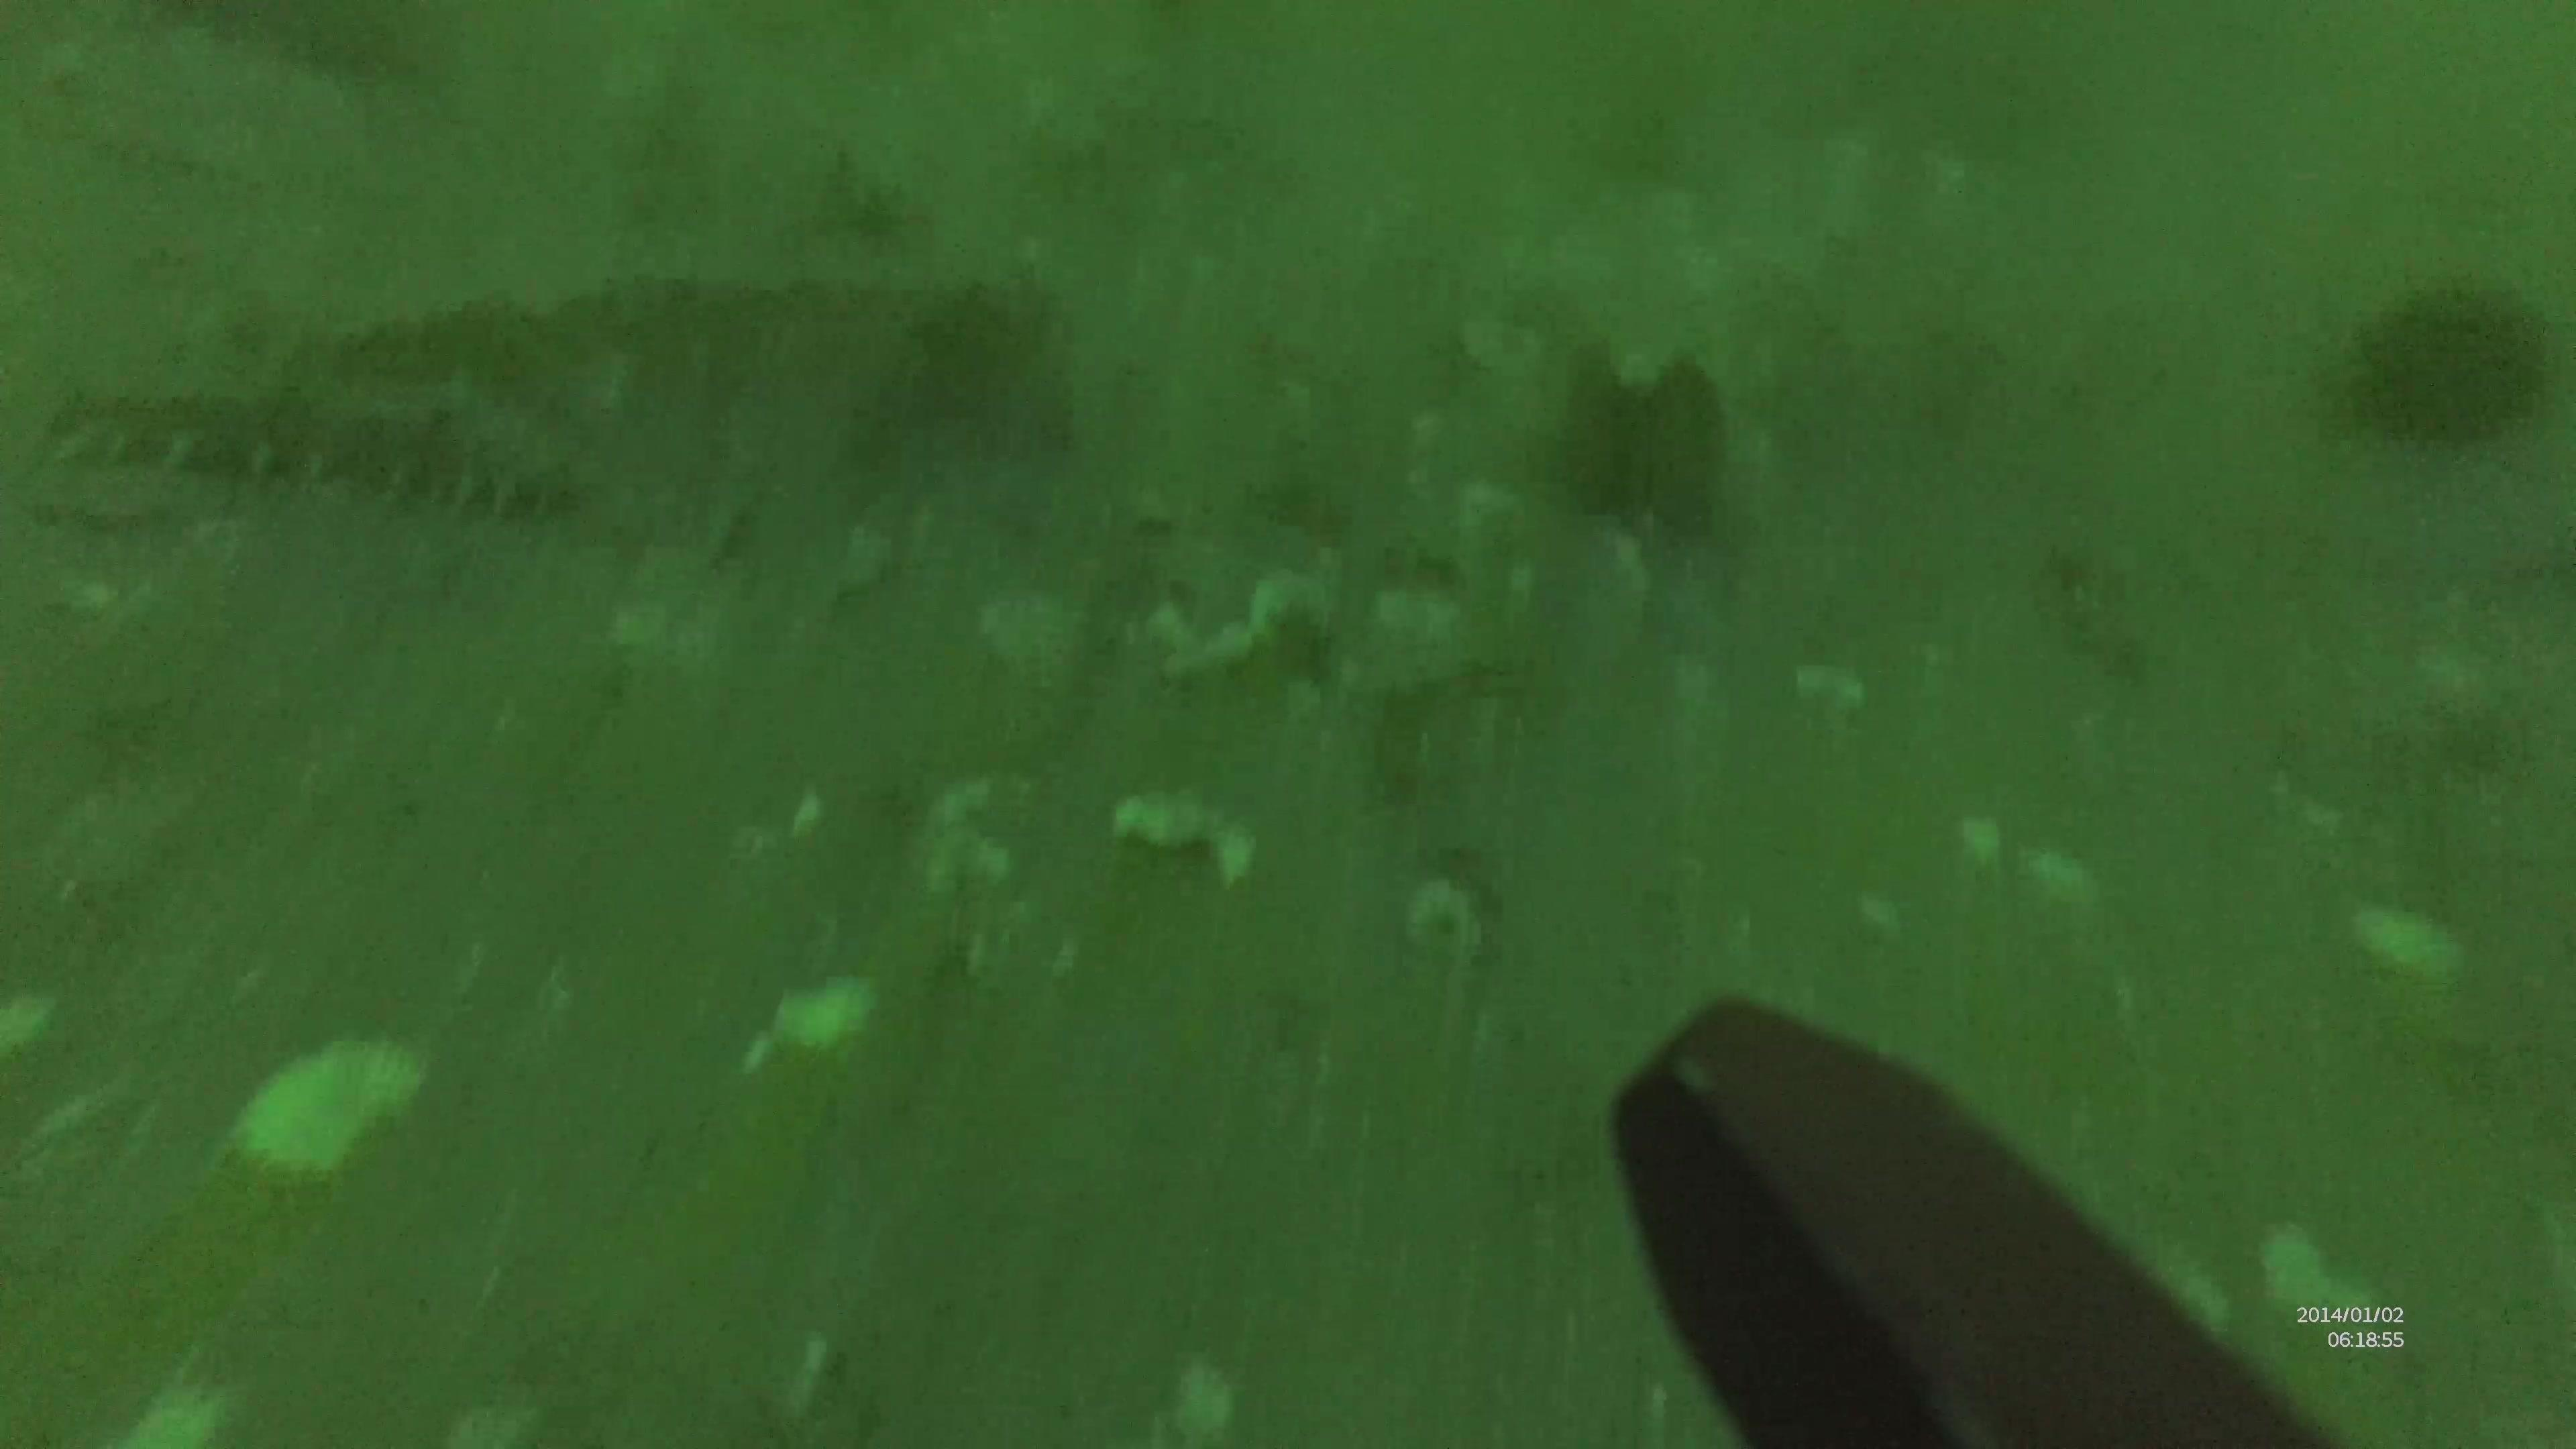echinus: (2348, 271, 2555, 449), (1546, 363, 1752, 540)
holothurian: (39, 380, 598, 527)
